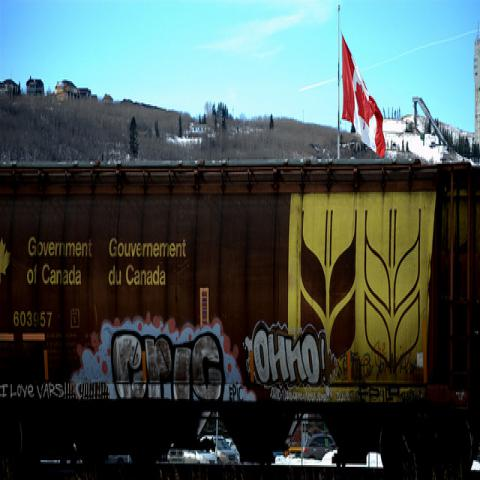car: (198, 436, 240, 465), (300, 433, 341, 458), (183, 450, 218, 465)
